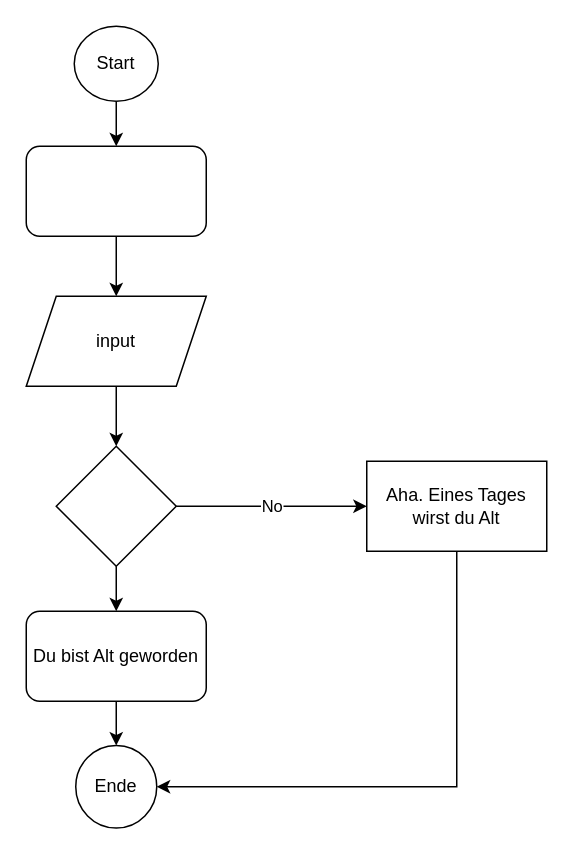
This 573x855 diagram has some shape labels left out. Here are the shapes that lost their labels. From the top down, the centre of each, then its label:
the point at 115,190: print: Wie Alt bist du ?
the point at 115,505: über 50
